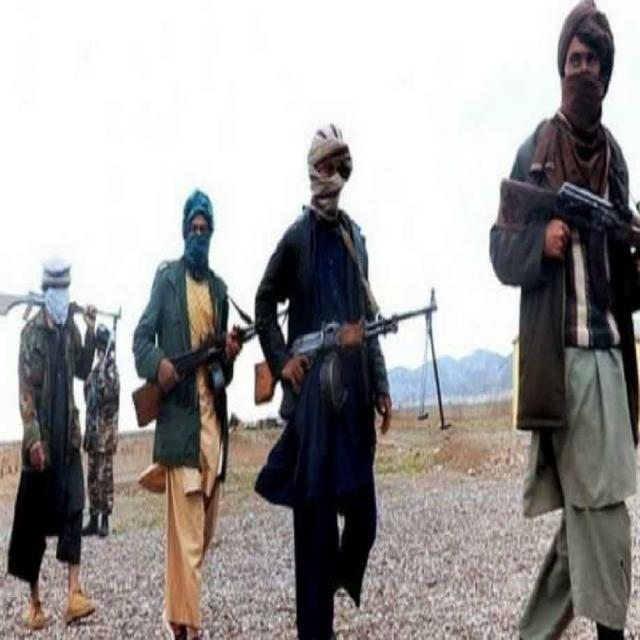Militant: (497, 0, 640, 636), (258, 101, 398, 638), (134, 157, 237, 640), (2, 253, 109, 640), (81, 284, 134, 548)
